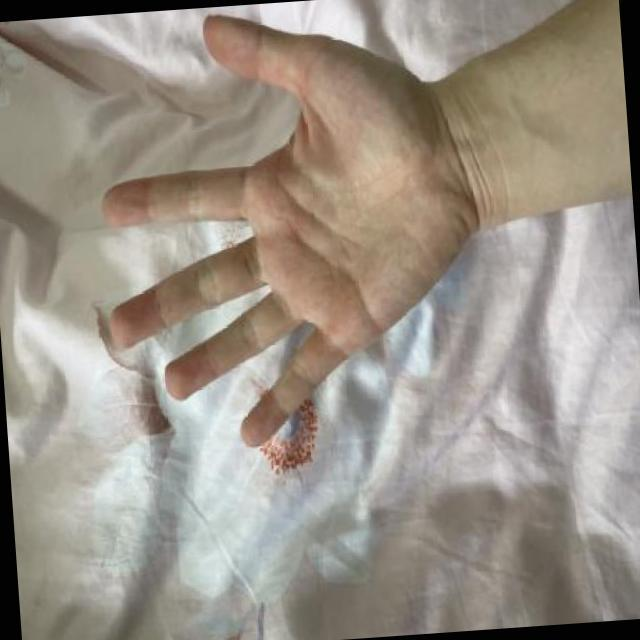hand: (40, 0, 527, 496)
